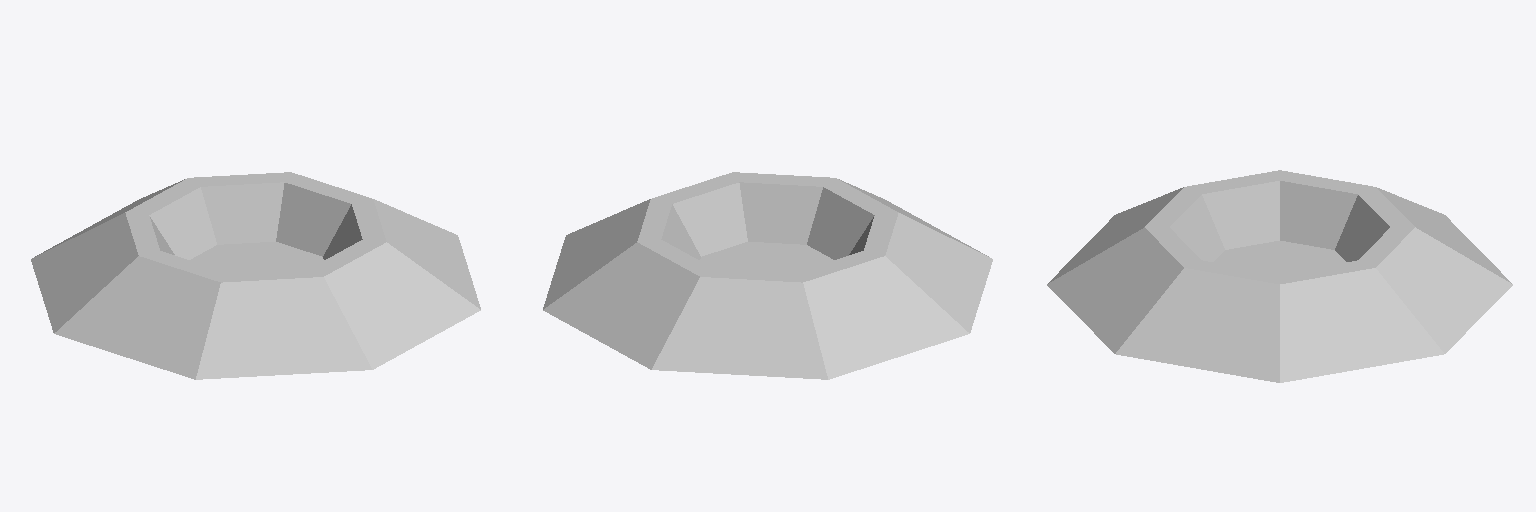
File: craterLarge.obj
3 views of the same model, side by side, from view 1: azimuth 30°, elevation 25°; view 2: azimuth 150°, elevation 25°; view 3: azimuth 270°, elevation 25° (orthographic).
Visible parts, largest first — view 1: craterLarge; view 2: craterLarge; view 3: craterLarge.
Part boxes in pixels (bbox=[...]): craterLarge: bbox=[31, 172, 480, 379]; craterLarge: bbox=[543, 172, 992, 379]; craterLarge: bbox=[1047, 170, 1512, 382].
Bounding box in the file's own units: 8.86 × 1.2 × 8.86.